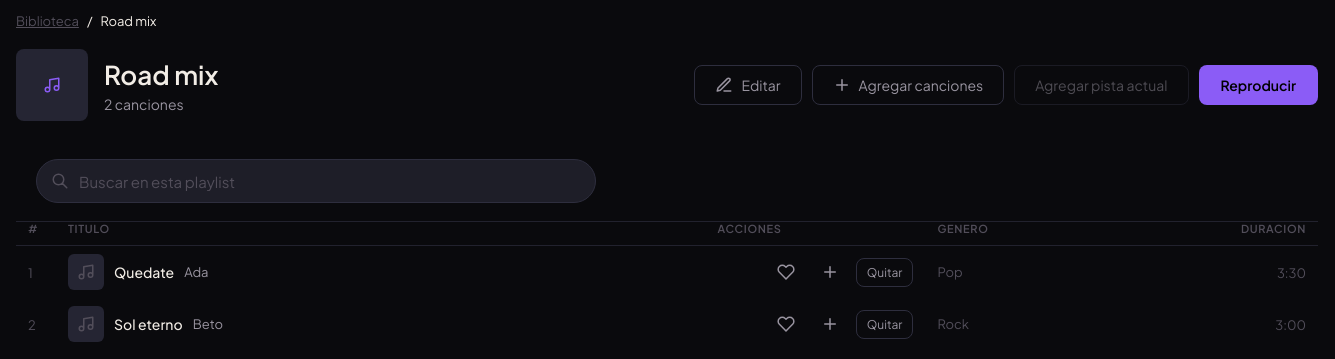
Test: LibraryPage › shows an empty search result inside private playlist details
expect the button "Reproducir" is shown: met, box left=1198, top=65, right=1318, bottom=105
Type "zzzz" into the field with placeholder "Buscar en esta playlist".
click(316, 181); type("zzzz")  # box left=36, top=159, right=596, bottom=203
Then press Enter
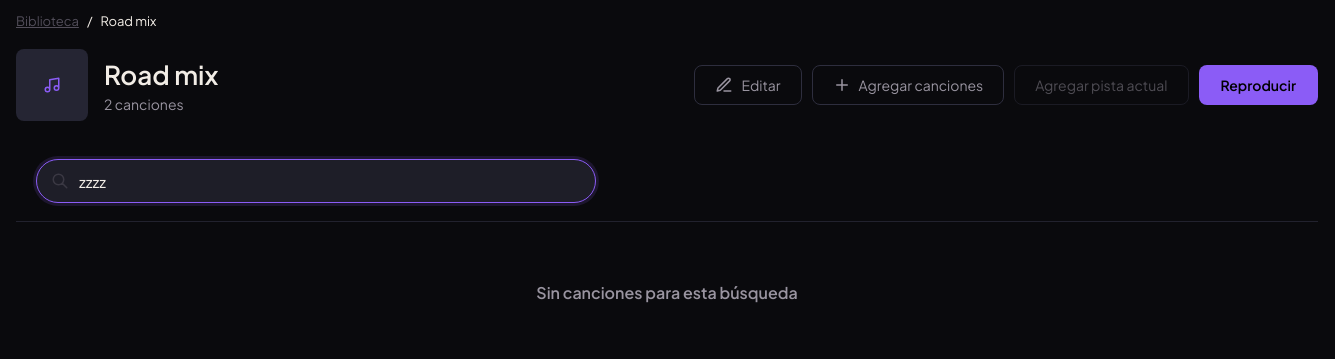
expect the text "Sin canciones para esta búsqueda" is shown: met, box left=536, top=282, right=798, bottom=303
